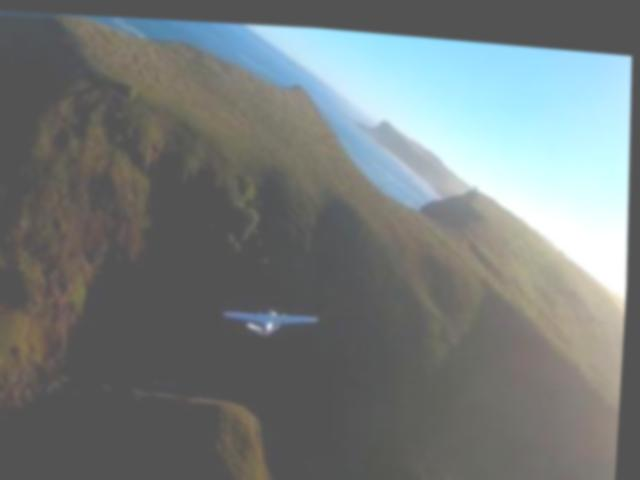uav: (225, 295, 326, 337)
